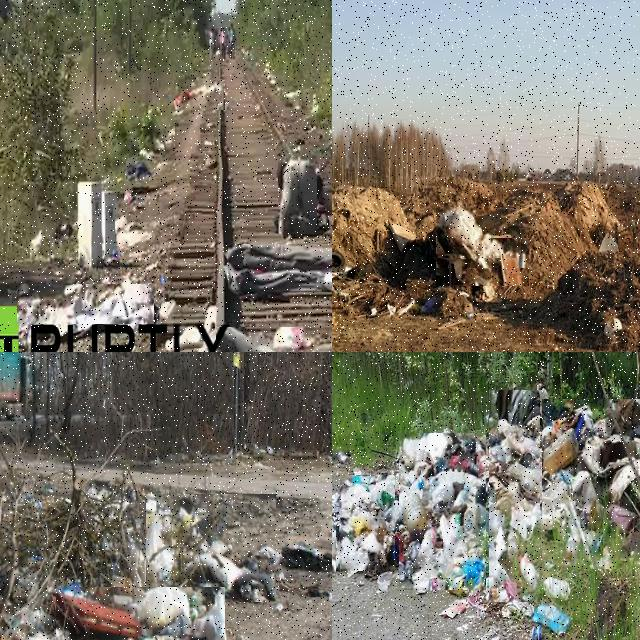lixeira: (543, 399, 639, 570), (146, 494, 277, 604), (400, 434, 488, 592), (489, 391, 542, 604), (56, 587, 227, 639), (436, 207, 530, 287), (0, 537, 58, 639), (17, 284, 155, 325), (341, 476, 396, 572), (228, 245, 331, 294), (194, 327, 331, 351), (278, 157, 318, 236), (162, 303, 218, 350), (27, 222, 71, 262), (281, 541, 331, 575), (174, 81, 226, 112), (116, 216, 158, 248), (143, 126, 176, 160), (535, 605, 571, 634), (284, 88, 320, 115), (125, 185, 159, 208), (543, 578, 572, 600), (126, 162, 152, 183), (440, 600, 468, 616), (332, 445, 352, 466), (204, 152, 216, 170)
